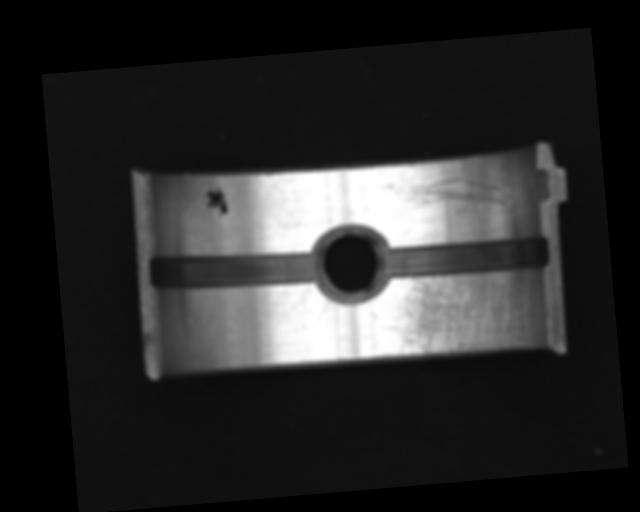blot: (201, 185, 229, 219)
gap: (143, 240, 323, 297), (380, 232, 551, 281)
hole: (311, 227, 392, 302)
nick: (381, 169, 509, 221), (307, 296, 334, 331)
scratch: (374, 266, 539, 361)
